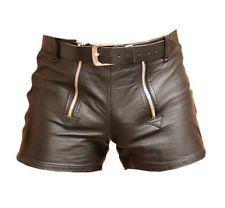C_shorts: (11, 24, 211, 175)
